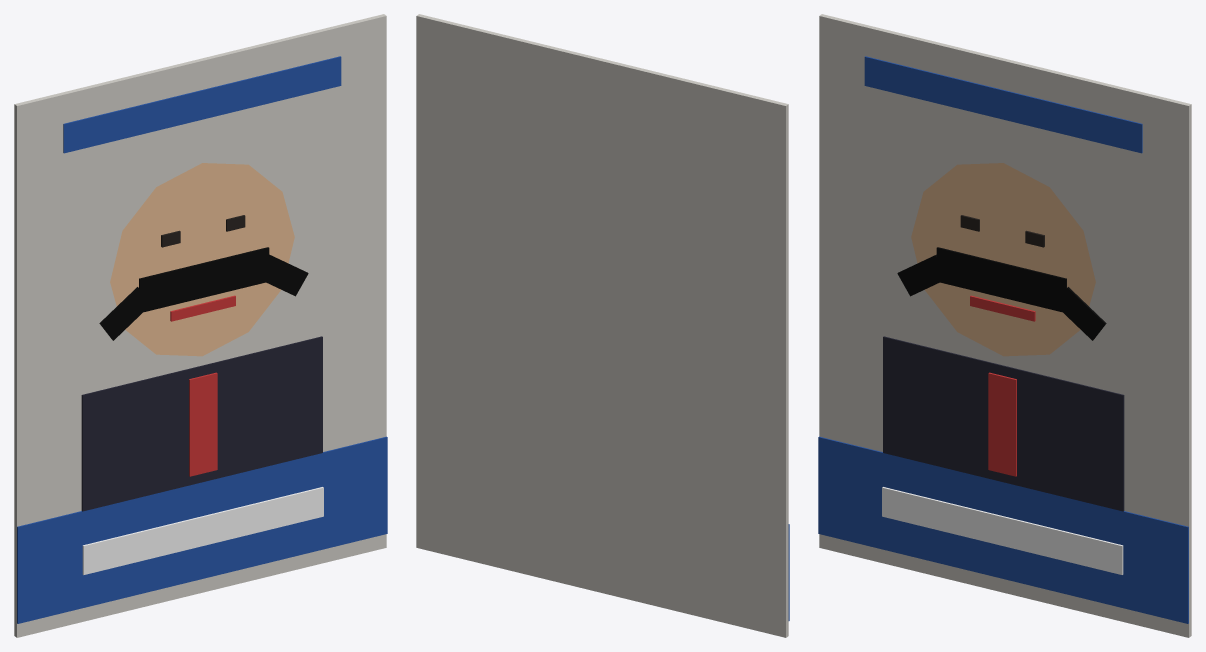
The model's file is deputy_poster_mustache.glb.
3 views of the same model, side by side, from view 1: azimuth 30°, elevation 25°; view 2: azimuth 150°, elevation 25°; view 3: azimuth 330°, elevation 25° (orthographic).
Visible parts, largest first — view 1: paper_poster_paper, band_poster_blue, suit_poster_suit, face_poster_skin, title_poster_blue, letters_poster_white, mustache_spray_black, tie_poster_tie, smile_poster_tie, eyes_poster_ink; view 2: paper_poster_paper; view 3: paper_poster_paper, band_poster_blue, suit_poster_suit, face_poster_skin, title_poster_blue, letters_poster_white, mustache_spray_black, tie_poster_tie, smile_poster_tie, eyes_poster_ink.
Part boxes in pixels (x1=…): paper_poster_paper: x1=14, y1=14, x2=386, y2=637; band_poster_blue: x1=17, y1=436, x2=387, y2=623; suit_poster_suit: x1=81, y1=336, x2=322, y2=511; face_poster_skin: x1=110, y1=163, x2=294, y2=356; title_poster_blue: x1=63, y1=56, x2=341, y2=153; letters_poster_white: x1=82, y1=487, x2=323, y2=574; mustache_spray_black: x1=99, y1=247, x2=308, y2=340; tie_poster_tie: x1=189, y1=372, x2=217, y2=476; smile_poster_tie: x1=170, y1=295, x2=235, y2=321; eyes_poster_ink: x1=161, y1=215, x2=245, y2=247; paper_poster_paper: x1=416, y1=14, x2=788, y2=637; paper_poster_paper: x1=819, y1=14, x2=1191, y2=637; band_poster_blue: x1=818, y1=436, x2=1188, y2=623; suit_poster_suit: x1=883, y1=336, x2=1124, y2=511; face_poster_skin: x1=911, y1=163, x2=1095, y2=356; title_poster_blue: x1=864, y1=56, x2=1142, y2=153; letters_poster_white: x1=882, y1=487, x2=1123, y2=574; mustache_spray_black: x1=897, y1=247, x2=1106, y2=340; tie_poster_tie: x1=988, y1=372, x2=1016, y2=476; smile_poster_tie: x1=970, y1=295, x2=1035, y2=321; eyes_poster_ink: x1=960, y1=215, x2=1044, y2=247.
Bounding box in the file's own units: 0.4 × 0.55 × 0.01.
